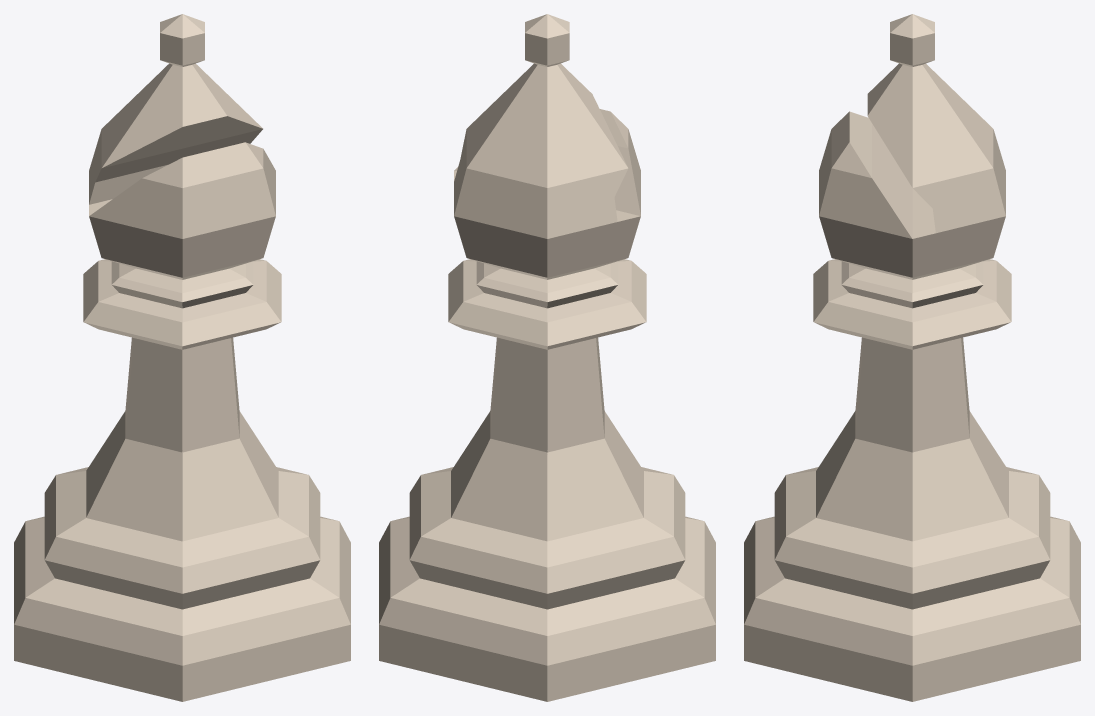
File: BishopLight.fbx
3 renders of one model, left to right at view 1: azimuth 30°, elevation 25°; view 2: azimuth 150°, elevation 25°; view 3: azimuth 270°, elevation 25°, orthographic.
Visible parts, largest first — view 1: BishopLight; view 2: BishopLight; view 3: BishopLight.
Part boxes in pixels (box(x1,y1,x2,y2)): BishopLight: box(14, 14, 350, 701); BishopLight: box(379, 14, 715, 701); BishopLight: box(744, 14, 1080, 701).
Size of the model in its own units: 87.63 by 151 by 75.89.
